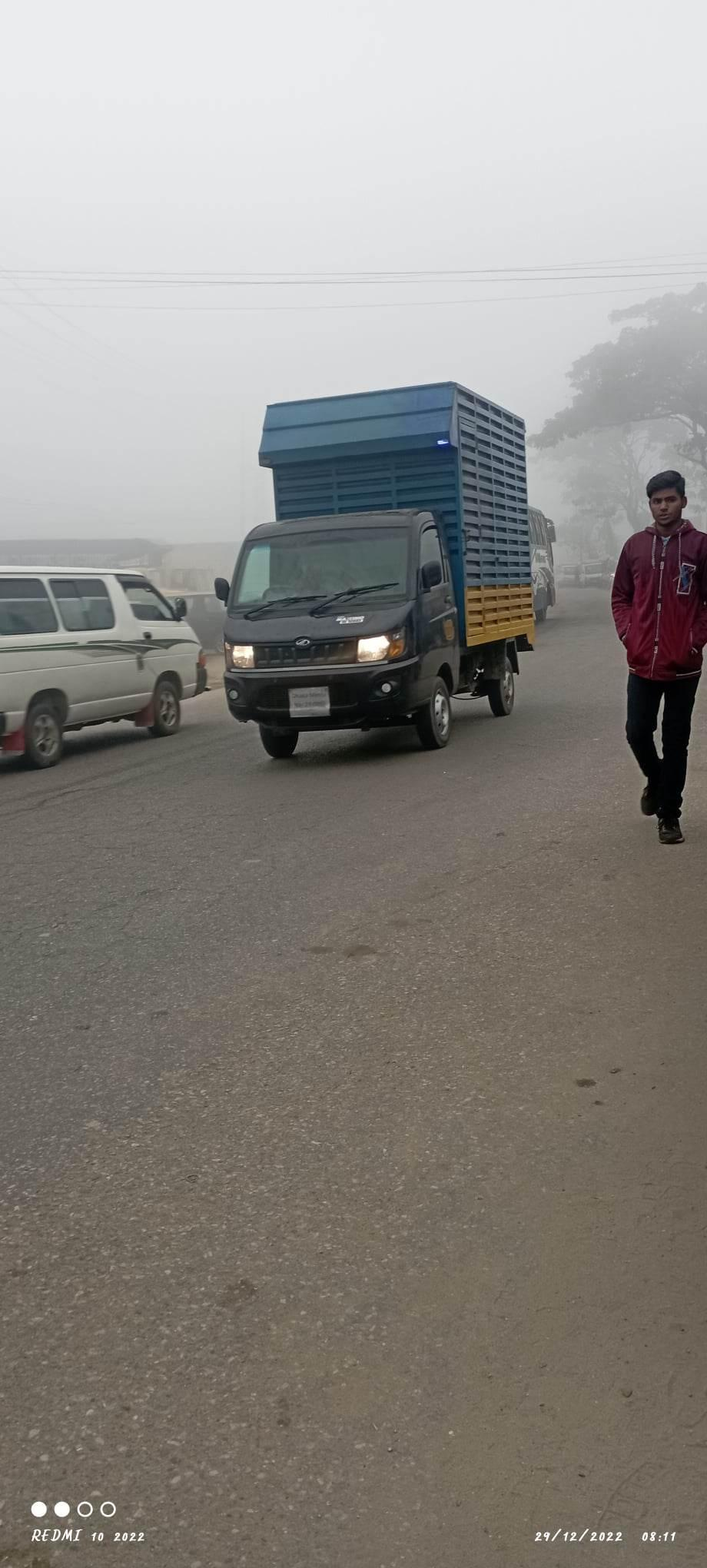Car: (1, 542, 219, 780)
Truck: (215, 374, 554, 776)
